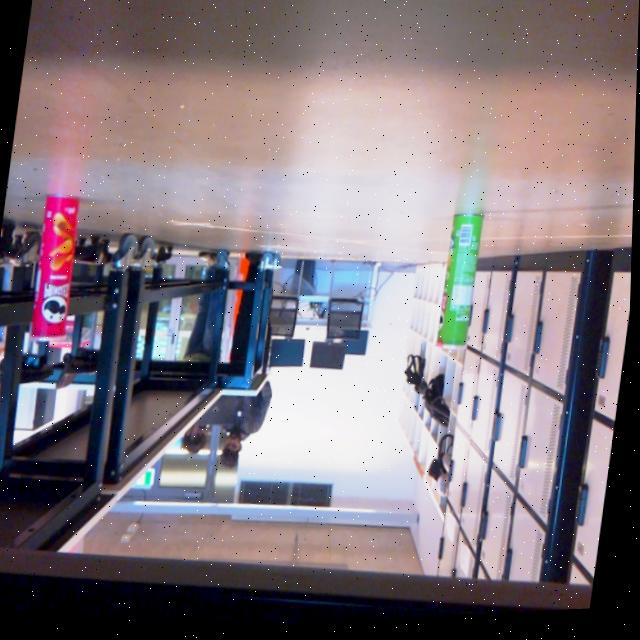greenpringles: (432, 198, 499, 365)
redpringles: (20, 176, 95, 363)
